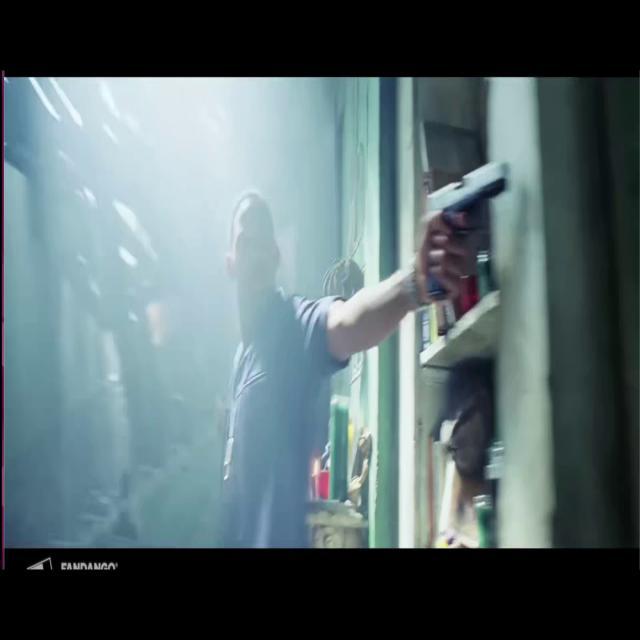weapons: (410, 146, 520, 308)
